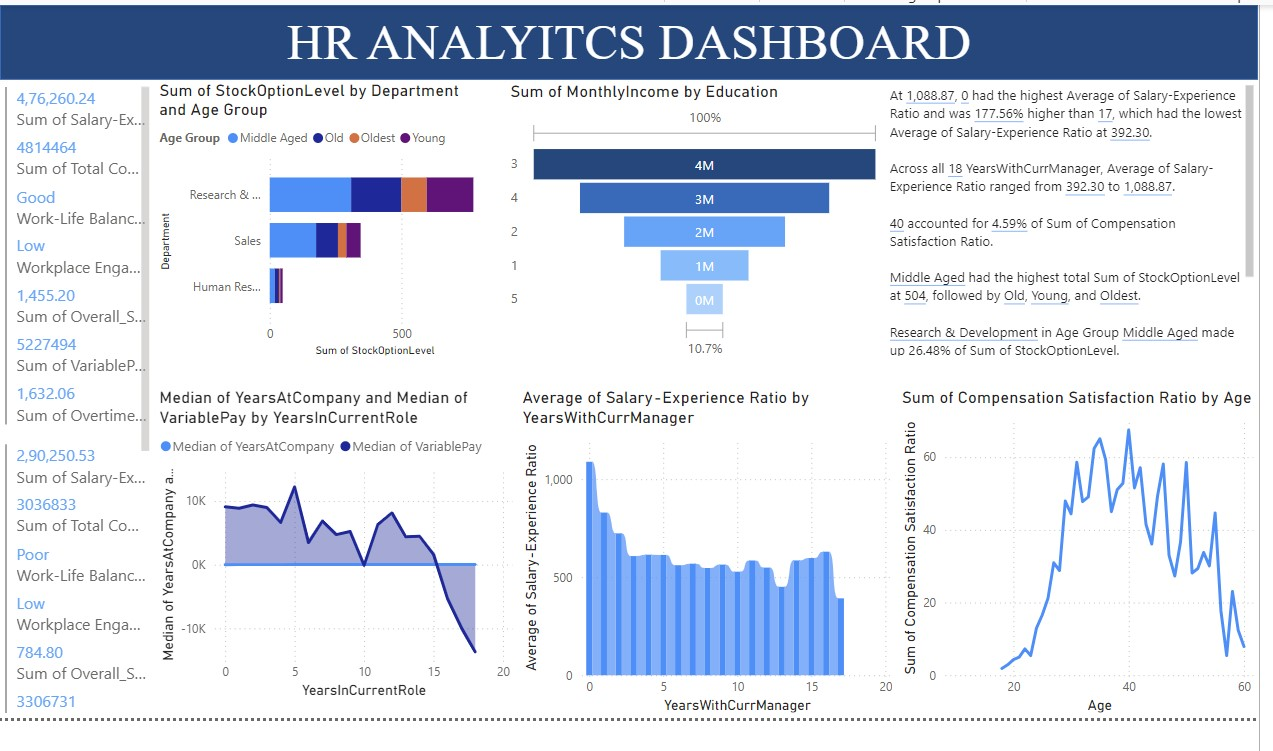

The dashboard page shown, as its layout file describes it:
{"tool":"powerbi","page":{"name":"Basic Plots","canvas":[1280,720],"ordinal":0},"visuals":[{"type":"shape","box":[9.4,0,1269.9,75.6],"z":0},{"type":"barChart","fields":{"Category":["HR-Employee-Attrition (2).Department"],"Y":["Sum(HR-Employee-Attrition (2).StockOptionLevel)"],"Series":["HR-Employee-Attrition (2).Age Group"]},"box":[165,75.7,343.7,283.2],"z":1000},{"type":"funnel","fields":{"Category":["HR-Employee-Attrition (2).Education"],"Y":["Sum(HR-Employee-Attrition (2).MonthlyIncome)"]},"box":[519.4,77.2,383.1,283.2],"z":2000},{"type":"ribbonChart","fields":{"Category":["HR-Employee-Attrition (2).YearsWithCurrManager"],"Y":["Avg(HR-Employee-Attrition (2).Salary-Experience Ratio)"]},"box":[531.5,386.1,383.1,333.1],"z":3000},{"type":"lineChart","fields":{"Category":["HR-Employee-Attrition (2).Age"],"Y":["Sum(HR-Employee-Attrition (2).Compensation Satisfaction Ratio)"]},"box":[914.6,386.1,364.9,333.1],"z":4000},{"type":"textbox","box":[902.5,75.7,377,283.2],"z":5000},{"type":"multiRowCard","fields":{"Values":["Sum(HR-Employee-Attrition (2).Salary-Experience Ratio)","Sum(HR-Employee-Attrition (2).Total Compensation)","HR-Employee-Attrition (2).Work-Life Balance Flag","HR-Employee-Attrition (2).Workplace Engagement","Sum(HR-Employee-Attrition (2).Overall_Score)","Sum(HR-Employee-Attrition (2).VariablePay)"]},"box":[9.1,77.2,156,642],"z":6000},{"type":"areaChart","fields":{"Category":["HR-Employee-Attrition (2).YearsInCurrentRole"],"Y":["Median(HR-Employee-Attrition (2).YearsAtCompany)","Median(HR-Employee-Attrition (2).VariablePay)"]},"box":[165,386.1,366.4,318],"z":7000}]}

Visuals, with their boxes on the page's 1280x720 design canvas (x1, y1, x2, y2). These are canvas units, not pixel positions in the 1273x751 screenshot, which may show the page scaled, cropped or inside an application window:
shape: bbox=(9, 0, 1279, 76)
barChart - HR-Employee-Attrition (2).Department x Sum(HR-Employee-Attrition (2).StockOptionLevel): bbox=(165, 76, 509, 359)
funnel - HR-Employee-Attrition (2).Education x Sum(HR-Employee-Attrition (2).MonthlyIncome): bbox=(519, 77, 902, 360)
ribbonChart - HR-Employee-Attrition (2).YearsWithCurrManager x Avg(HR-Employee-Attrition (2).Salary-Experience Ratio): bbox=(532, 386, 915, 719)
lineChart - HR-Employee-Attrition (2).Age x Sum(HR-Employee-Attrition (2).Compensation Satisfaction Ratio): bbox=(915, 386, 1280, 719)
textbox: bbox=(902, 76, 1280, 359)
multiRowCard - Sum(HR-Employee-Attrition (2).Salary-Experience Ratio) x Sum(HR-Employee-Attrition (2).Total Compensation): bbox=(9, 77, 165, 719)
areaChart - HR-Employee-Attrition (2).YearsInCurrentRole x Median(HR-Employee-Attrition (2).YearsAtCompany): bbox=(165, 386, 531, 704)
